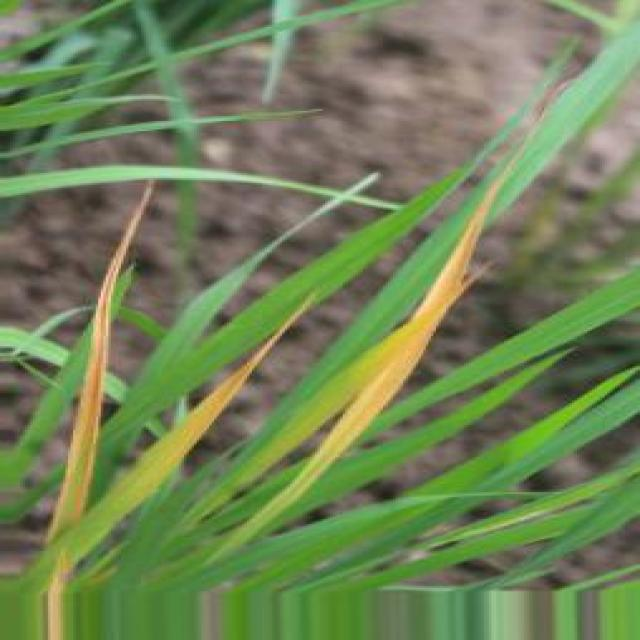Rice Tungro: (223, 184, 498, 551), (47, 309, 301, 639), (49, 181, 153, 542), (45, 554, 75, 639)
